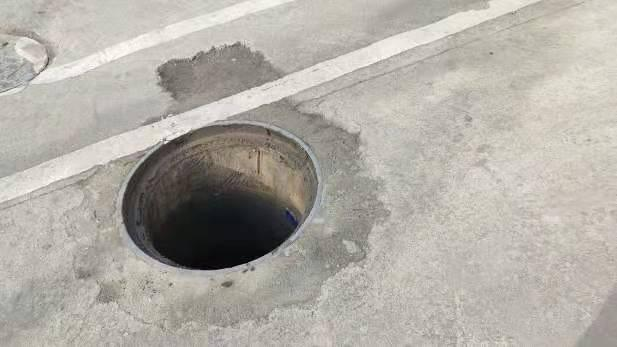wellcover: (118, 121, 325, 274), (0, 25, 51, 103)
